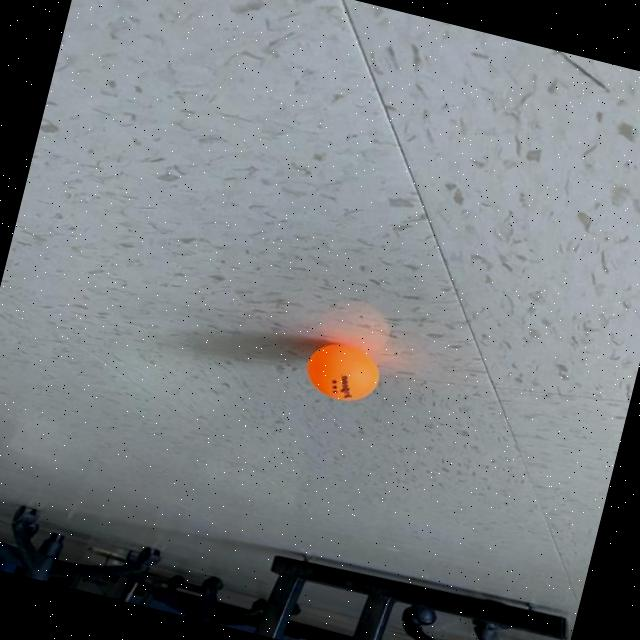ping-pong-ball: (296, 333, 388, 411)
